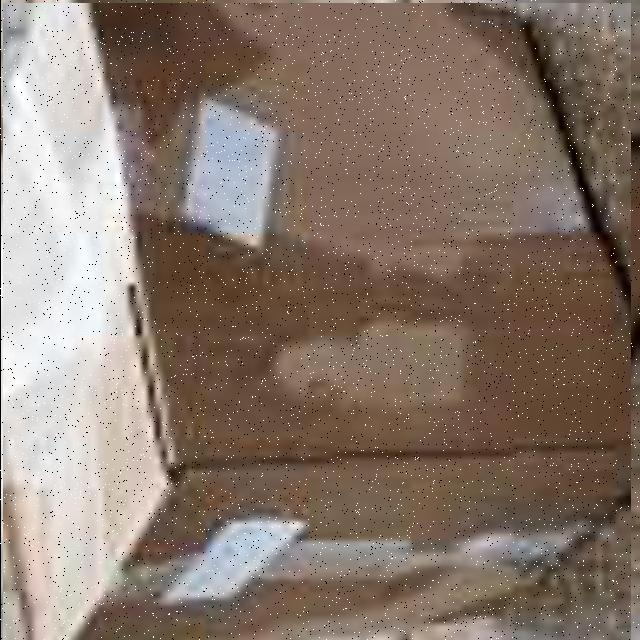defect: (2, 3, 630, 640)
